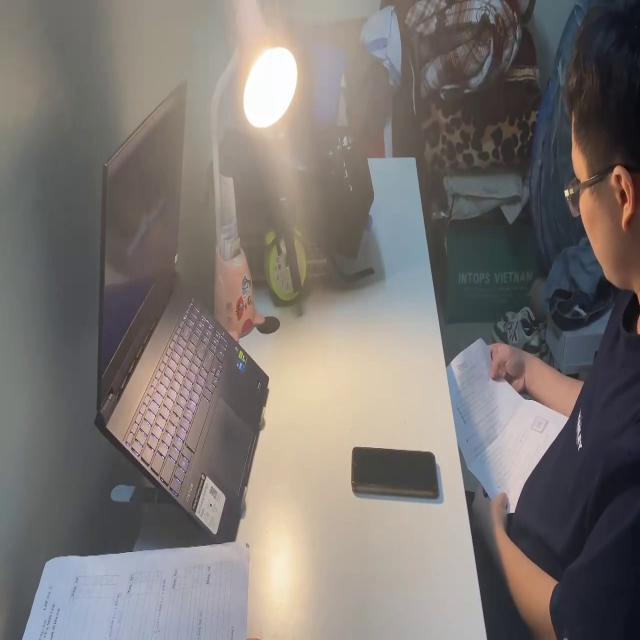book: (446, 329, 576, 526), (17, 537, 251, 640)
laptop: (89, 73, 270, 546)
phone: (350, 439, 440, 503)
student: (461, 0, 640, 640)
